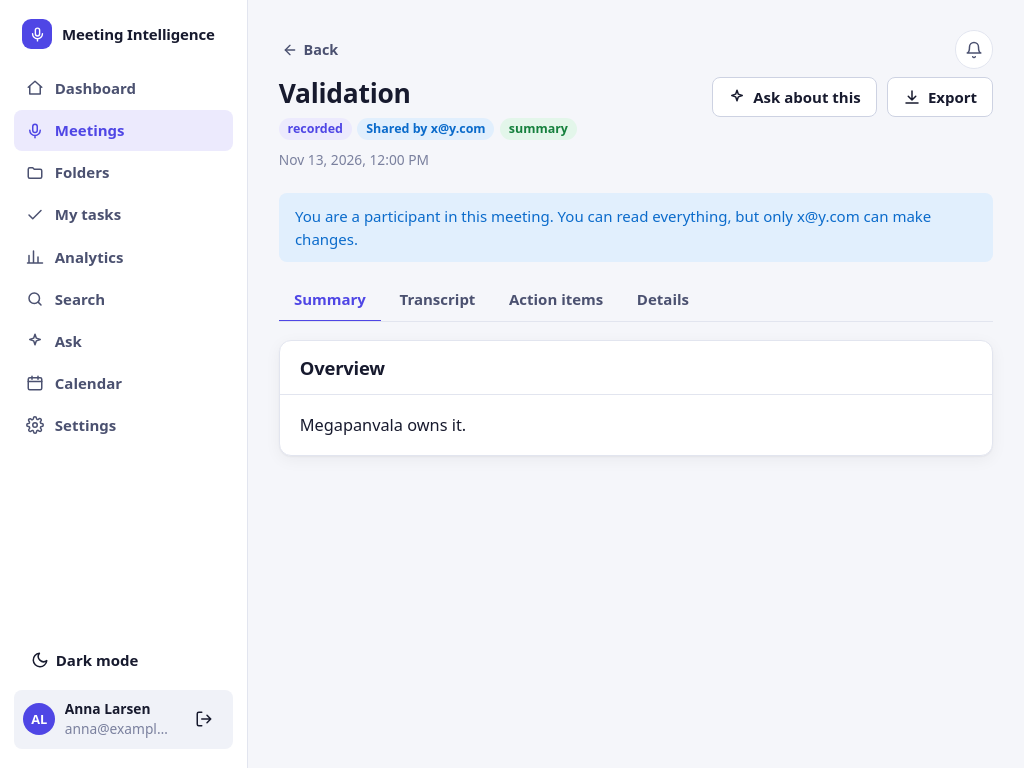
correcting the transcript › shows no edit controls to someone who can only read
Click the tab "Transcript".
click(437, 300)  # box left=384, top=278, right=491, bottom=322
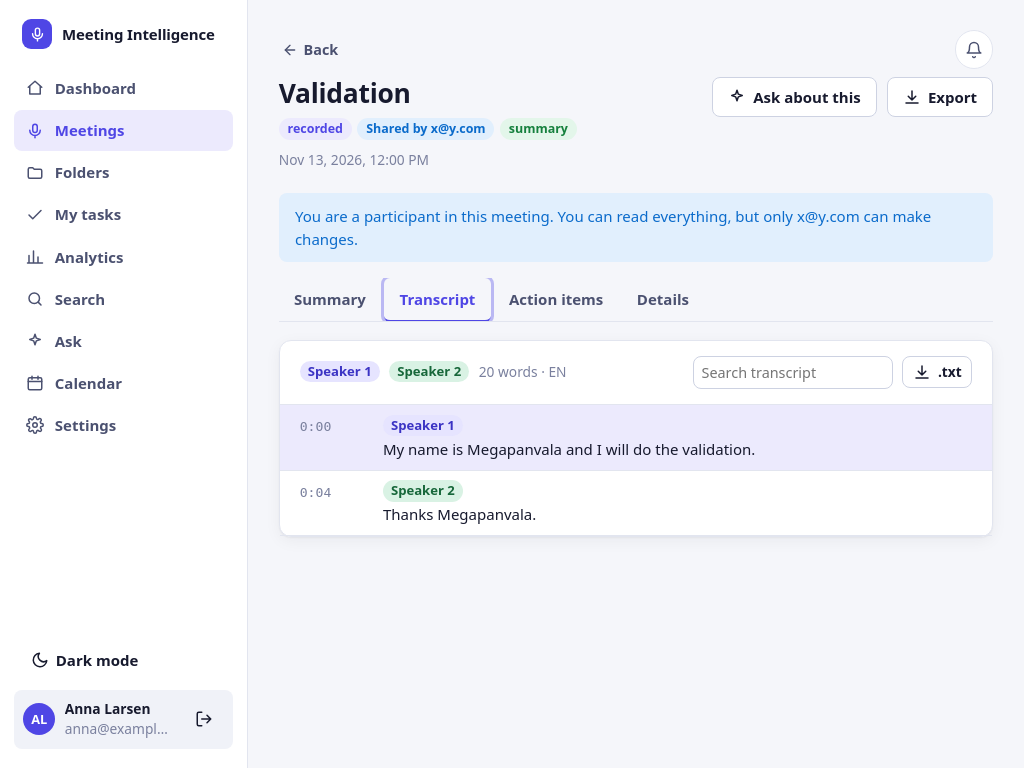
Expected: the text "My name is Megapanvala and I will do the validation." is shown, left=383, top=439, right=755, bottom=459
